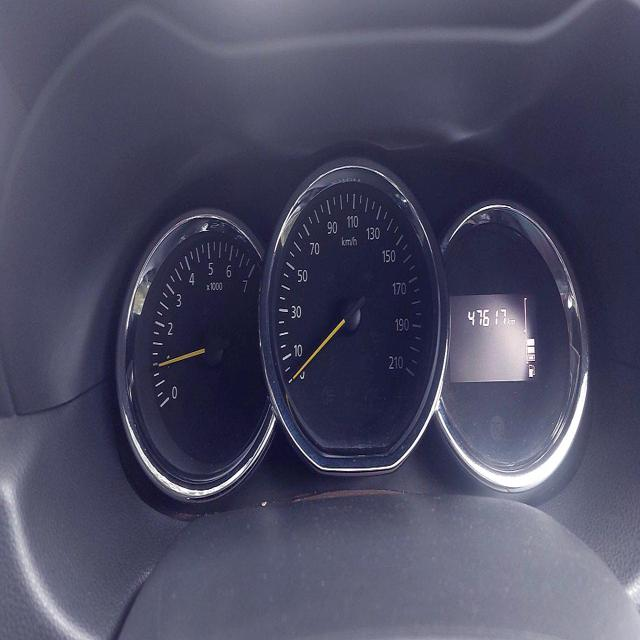odometer: (464, 302, 507, 328)
